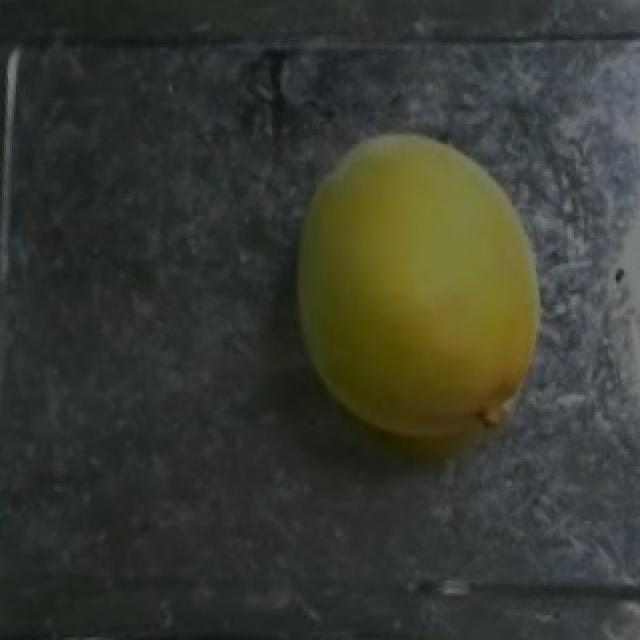fruit: (266, 104, 600, 476)
